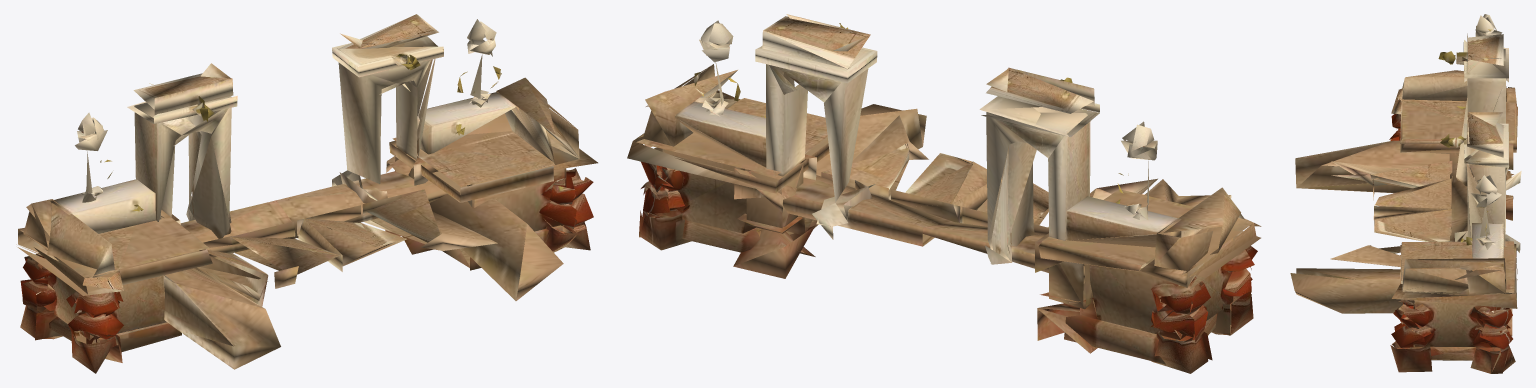
The model's file is causeway-span.lod1.glb.
3 renders of one model, left to right at view 1: azimuth 30°, elevation 25°; view 2: azimuth 150°, elevation 25°; view 3: azimuth 270°, elevation 25°, orthographic. The views are drawn at different scales.
Parts seen in each view (by area): view 1: causeway-span_lod1; view 2: causeway-span_lod1; view 3: causeway-span_lod1.
Part boxes in pixels (bbox=[...]): causeway-span_lod1: bbox=[16, 14, 597, 373]; causeway-span_lod1: bbox=[627, 14, 1261, 373]; causeway-span_lod1: bbox=[1290, 14, 1521, 373].
Size of the model in its own units: 8.09 by 3.34 by 3.74.
1 material, 1 textured.
